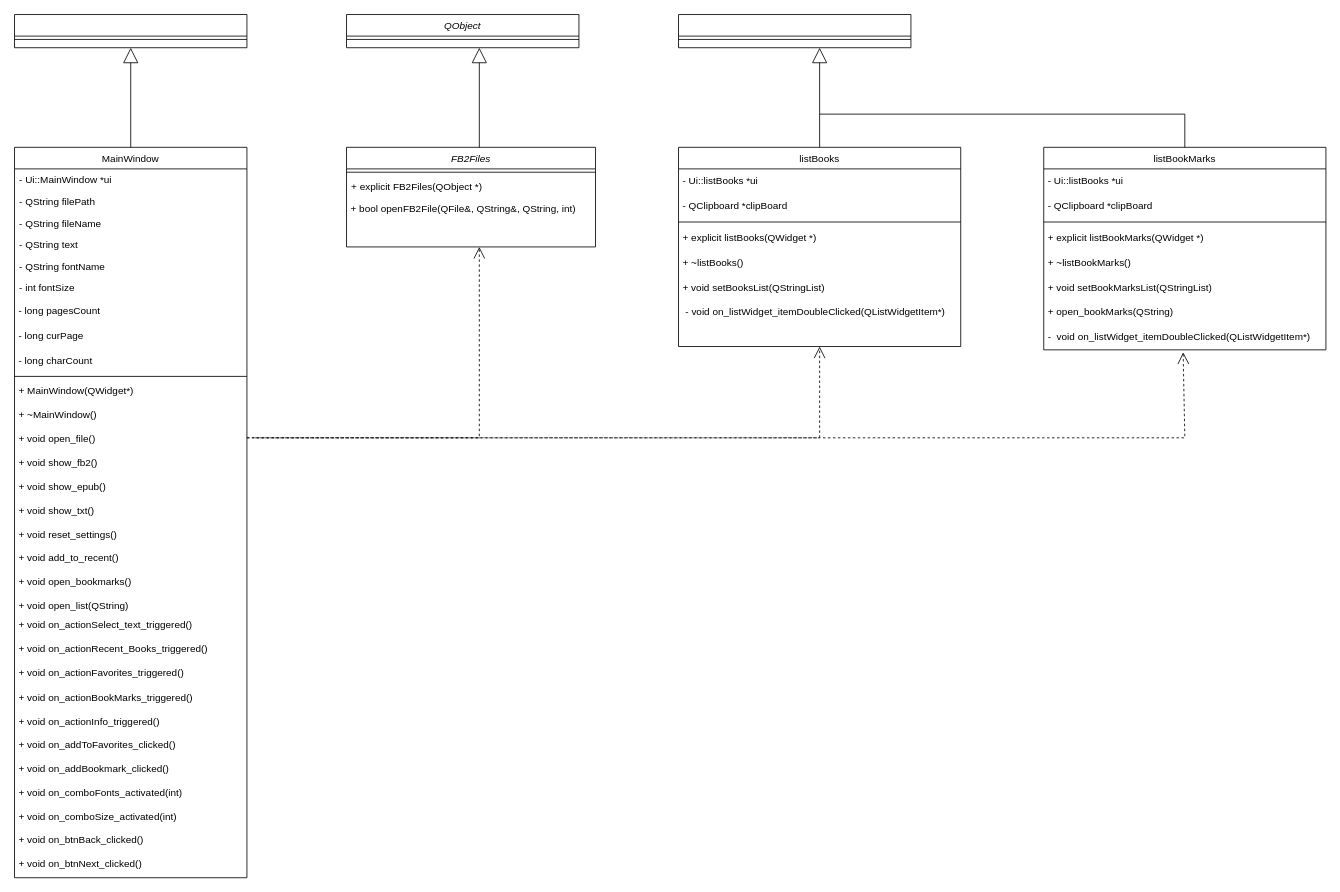
Image size: 1340x892. Some labels were removed from this diagram. Here are the shapes that lost their labels. From the top down, the centre of each, then its label:
[130,31]: QMainWindow
[794,31]: QWidget
